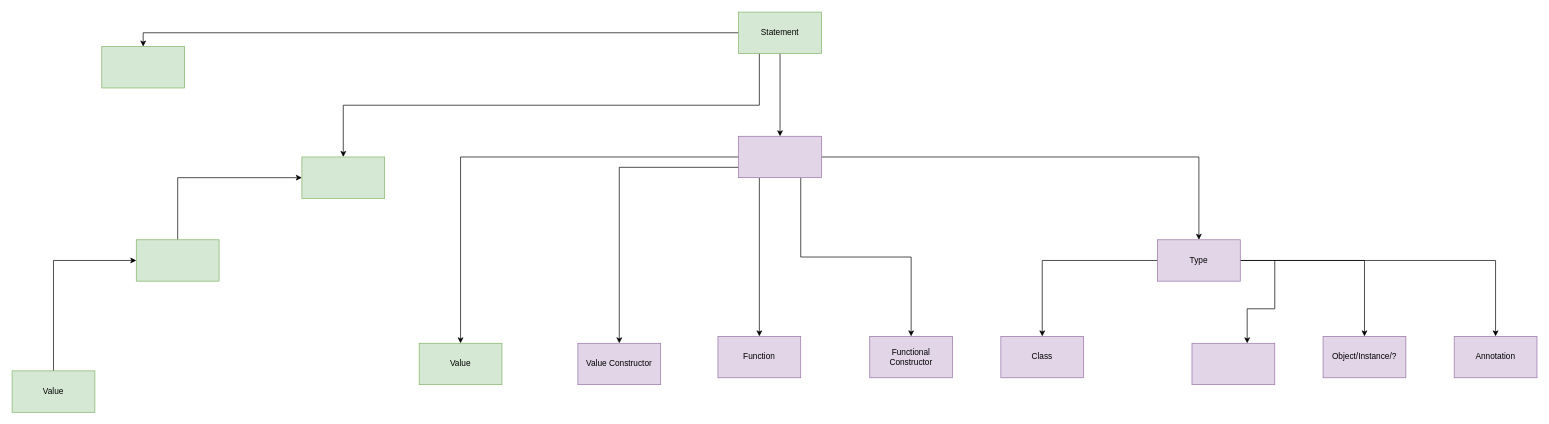
Some shapes in this 1549 by 424 pixel diagram are drawn without their labels. The shapes that lost their labels are listed below. From the top down, each one's centre as x and y in pixels, then its label:
the point at 143,67: Assignment
the point at 343,177: Aggregated
the point at 779,157: Declaration
the point at 177,260: Declaration with Initialization
the point at 1233,364: Interface/Trait
